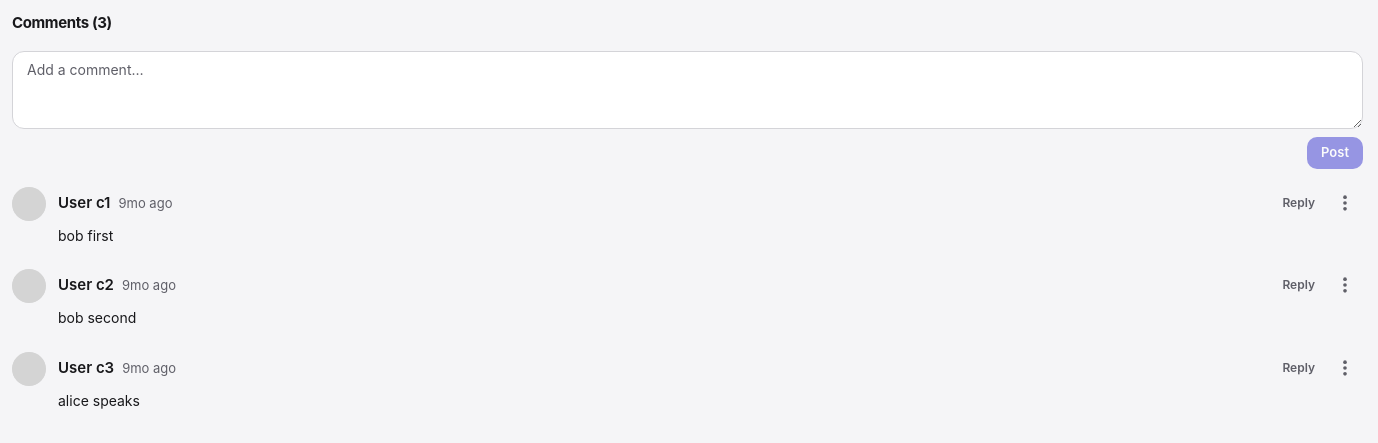
it: CommentsSection block removes the author's comments at once › removes every comment by the blocked author, and nobody else's
Click the button named "Comment actions" in the row of "User c1" at [1345, 202], box [1327,184,1363,220]
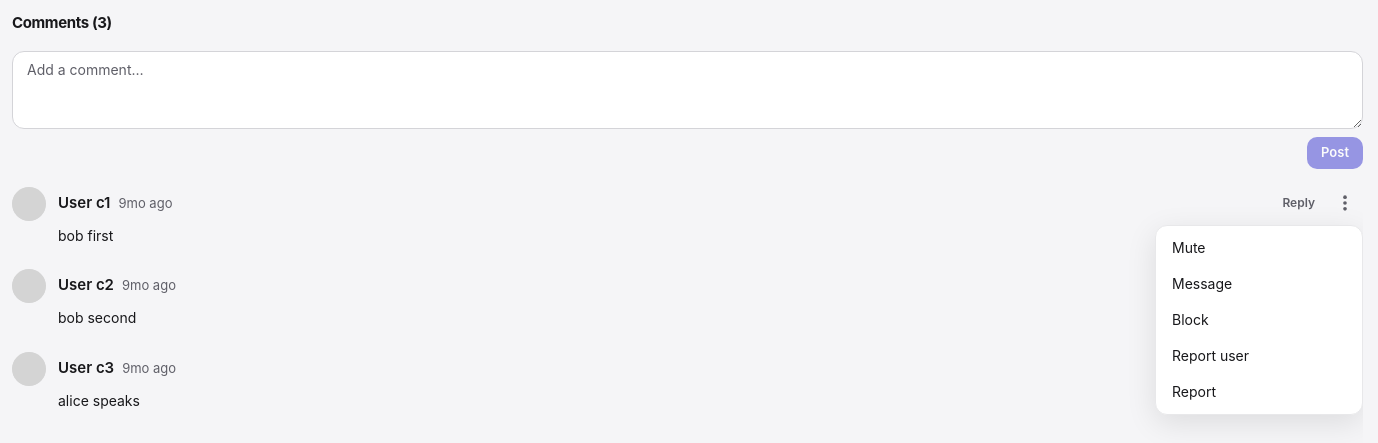
Click the menu item "Block" at [1259, 320], box [1160,302,1358,338]
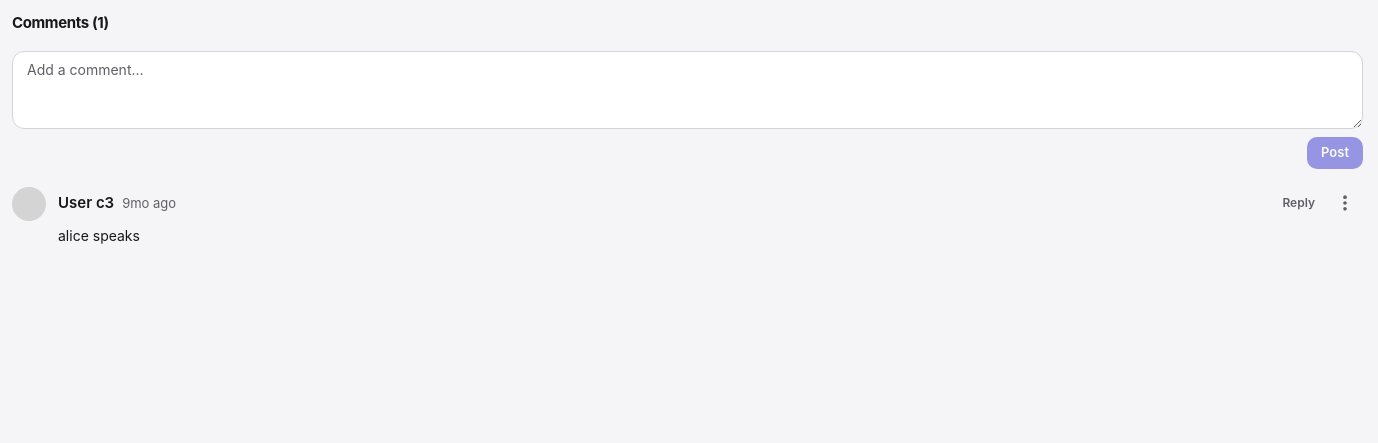
Expected: the text "alice speaks" is shown, [58,226,140,244]
Expected: the text "bob first" is gone
Expected: the text "bob second" is gone
